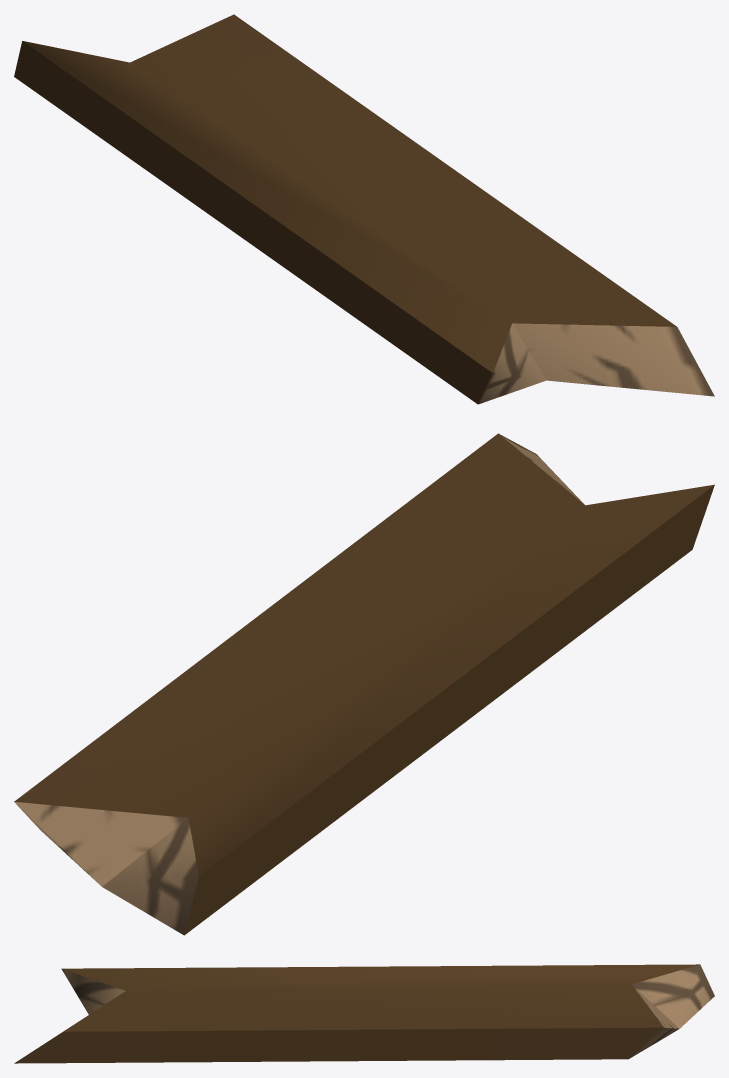
File: FX_wood_A.glb
3 views of the same model, one above another, from view 1: azimuth 30°, elevation 25°; view 2: azimuth 150°, elevation 25°; view 3: azimuth 270°, elevation 25° (orthographic). The views are drawn at different scales.
Visible parts, largest first — view 1: FX_wood_A; view 2: FX_wood_A; view 3: FX_wood_A.
Part boxes in pixels (left/top/right/bottom): FX_wood_A: left=14, top=14, right=714, bottom=404; FX_wood_A: left=14, top=433, right=714, bottom=935; FX_wood_A: left=14, top=964, right=714, bottom=1063.
Bounding box in the file's own units: 0.4693 × 0.0992 × 2.04.
1 material, 1 textured.
